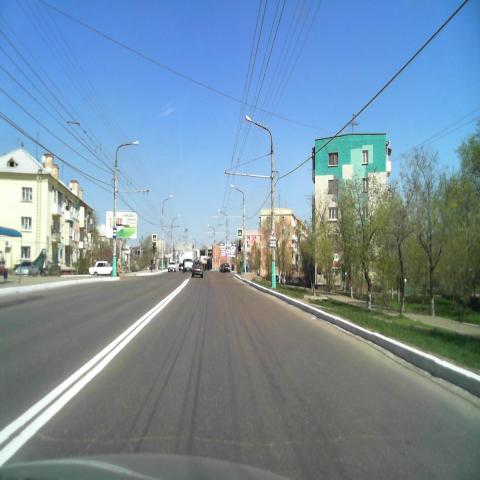1_23: (269, 228, 277, 240)
5_19_1: (238, 228, 243, 236), (152, 234, 157, 242)
